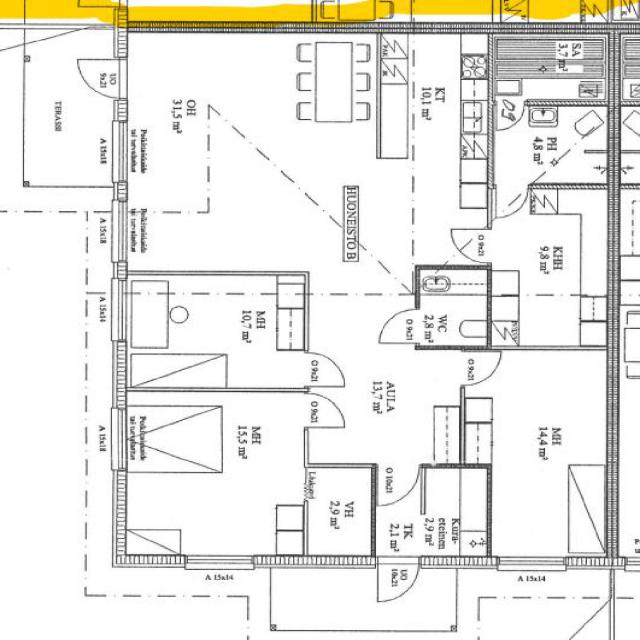door: (378, 556, 419, 603), (78, 60, 126, 98), (378, 464, 418, 506), (378, 309, 419, 344), (451, 229, 491, 263), (461, 351, 501, 385), (303, 394, 344, 427), (303, 353, 344, 386), (496, 185, 529, 218), (496, 102, 524, 130)
